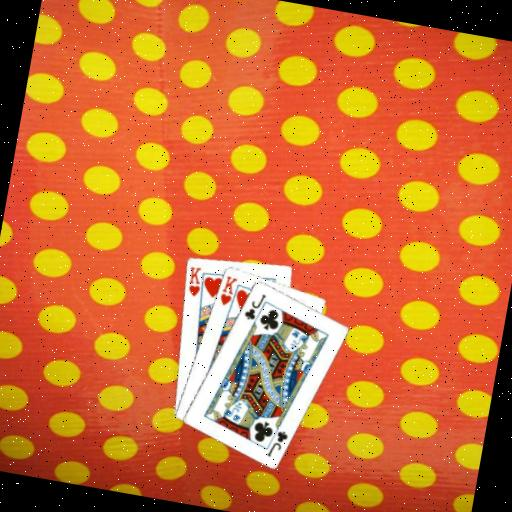JC: (263, 425, 290, 461), (240, 288, 267, 323)
KH: (215, 271, 239, 308), (181, 262, 205, 298)
